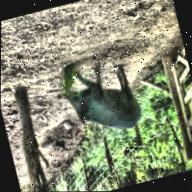boar: (57, 56, 152, 149)
